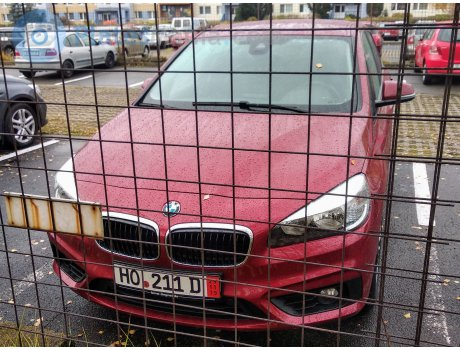License Plates: (113, 264, 205, 290)
